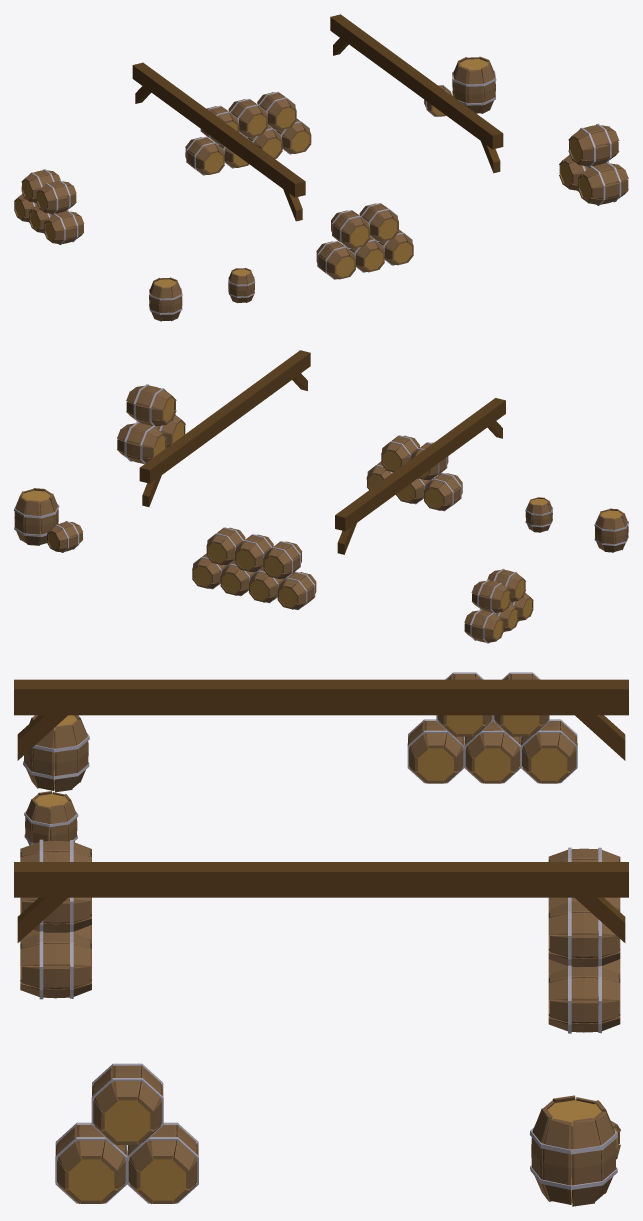
File: Map5_decor.fbx
3 renders of one model, top to bottom at view 1: azimuth 30°, elevation 25°; view 2: azimuth 150°, elevation 25°; view 3: azimuth 270°, elevation 25°, orthographic. The views are drawn at different scales.
Visible parts, largest first — view 1: Map 3 decor; view 2: Map 3 decor; view 3: Map 3 decor.
Boxes of the visible parts, x1=… form: Map 3 decor: x1=14, y1=14, x2=628, y2=321; Map 3 decor: x1=14, y1=350, x2=628, y2=643; Map 3 decor: x1=14, y1=672, x2=628, y2=1206.
Size of the model in its own units: 5598 by 1247 by 3269.
